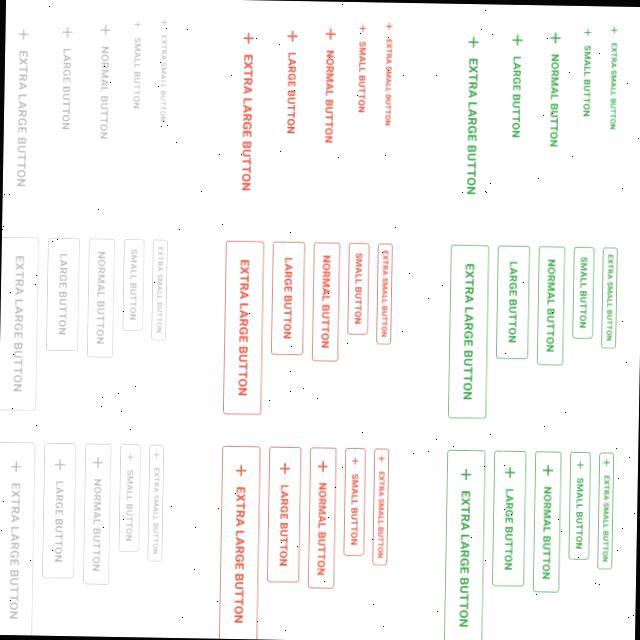QLabel: (461, 258, 476, 402), (457, 485, 472, 629), (232, 484, 246, 624), (239, 51, 253, 190), (15, 48, 29, 186), (237, 257, 250, 396), (466, 52, 478, 192), (12, 254, 24, 391), (8, 481, 20, 618), (97, 43, 111, 139), (322, 48, 336, 142), (319, 253, 332, 347), (545, 252, 557, 352), (541, 480, 553, 580), (316, 480, 328, 574), (59, 45, 72, 130), (507, 256, 519, 344), (503, 482, 515, 570), (95, 248, 106, 344), (549, 49, 560, 144), (91, 476, 102, 571), (285, 48, 297, 134), (278, 482, 290, 566), (605, 249, 615, 343), (601, 468, 611, 561), (511, 53, 522, 137), (282, 255, 293, 338), (384, 35, 394, 125), (158, 32, 168, 122), (150, 464, 160, 554), (608, 40, 618, 128), (380, 248, 390, 336), (154, 244, 164, 332), (58, 250, 68, 334), (54, 478, 64, 561), (376, 468, 385, 557), (578, 251, 588, 331), (574, 472, 584, 550), (356, 39, 366, 113), (132, 35, 142, 109), (128, 247, 138, 320), (582, 42, 591, 118), (125, 467, 134, 540), (353, 251, 362, 323), (349, 472, 358, 544)
VBtn: (443, 447, 487, 640), (218, 443, 261, 639), (446, 242, 489, 418), (222, 238, 265, 414), (0, 233, 40, 410), (0, 439, 36, 635), (5, 8, 36, 204), (231, 12, 260, 204), (457, 14, 484, 202), (41, 440, 77, 579), (266, 444, 302, 582), (491, 448, 526, 586), (532, 449, 562, 592), (82, 442, 112, 584), (307, 446, 337, 588), (494, 243, 530, 359), (270, 239, 306, 354), (45, 236, 81, 350), (536, 244, 566, 364), (310, 240, 340, 360), (86, 236, 116, 356), (54, 8, 78, 152), (92, 8, 116, 150), (542, 17, 566, 154), (279, 13, 303, 148), (504, 17, 526, 154), (377, 14, 400, 140), (318, 13, 339, 148), (127, 9, 147, 149), (567, 449, 592, 559), (118, 441, 142, 551), (342, 446, 366, 555), (154, 9, 172, 148), (120, 237, 146, 331), (352, 13, 370, 142), (570, 244, 594, 338), (346, 240, 370, 334), (596, 450, 614, 569), (146, 442, 164, 560), (604, 18, 622, 134), (372, 446, 389, 565), (578, 17, 596, 125), (600, 245, 618, 348), (150, 237, 168, 340), (376, 242, 394, 344)
VIcon: (504, 465, 514, 477), (542, 462, 552, 474), (461, 467, 471, 479), (325, 26, 335, 38), (62, 25, 72, 37), (287, 28, 297, 40), (18, 27, 28, 39), (54, 457, 64, 469), (280, 461, 290, 473), (10, 459, 20, 471), (236, 462, 246, 474), (550, 31, 560, 42), (468, 35, 478, 46), (100, 23, 110, 34), (244, 31, 254, 42), (92, 455, 102, 466), (318, 458, 328, 469), (512, 34, 522, 44), (610, 24, 618, 33), (160, 16, 167, 24), (359, 23, 366, 31), (126, 451, 133, 459), (378, 453, 385, 461), (351, 455, 358, 463), (584, 27, 590, 35), (603, 456, 609, 464), (577, 459, 583, 467), (134, 20, 140, 28), (153, 448, 159, 456), (386, 21, 392, 28)
